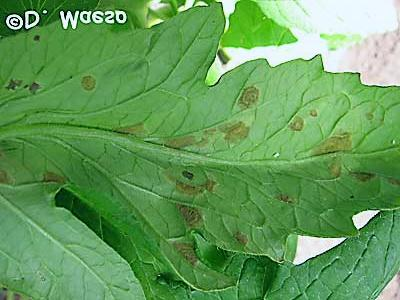Tomato mold leaf: (17, 15, 396, 264)
